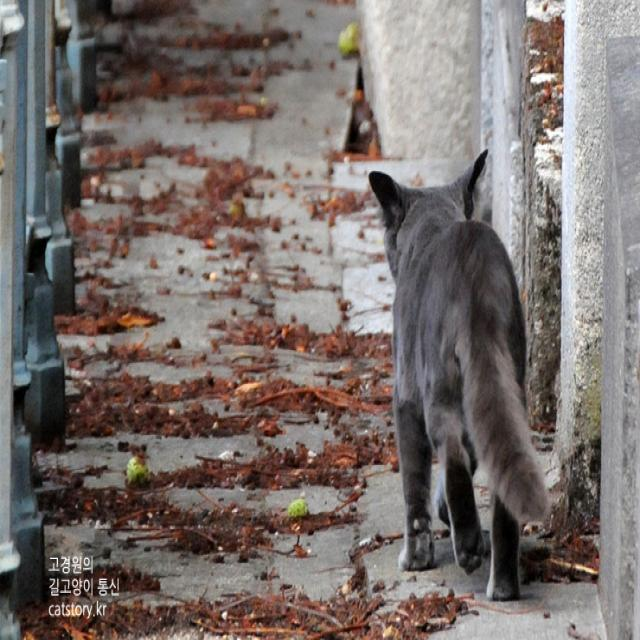cat: (354, 130, 546, 610)
